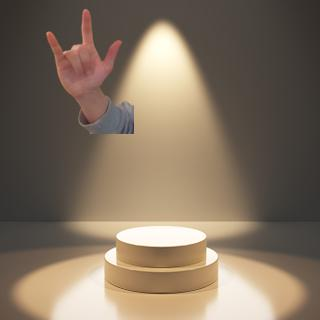ILY: (41, 7, 125, 99)
